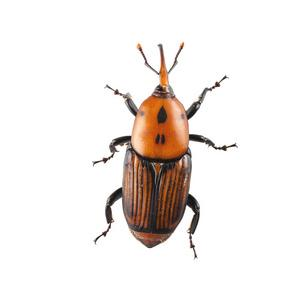Curculionidae: (90, 41, 239, 258)
